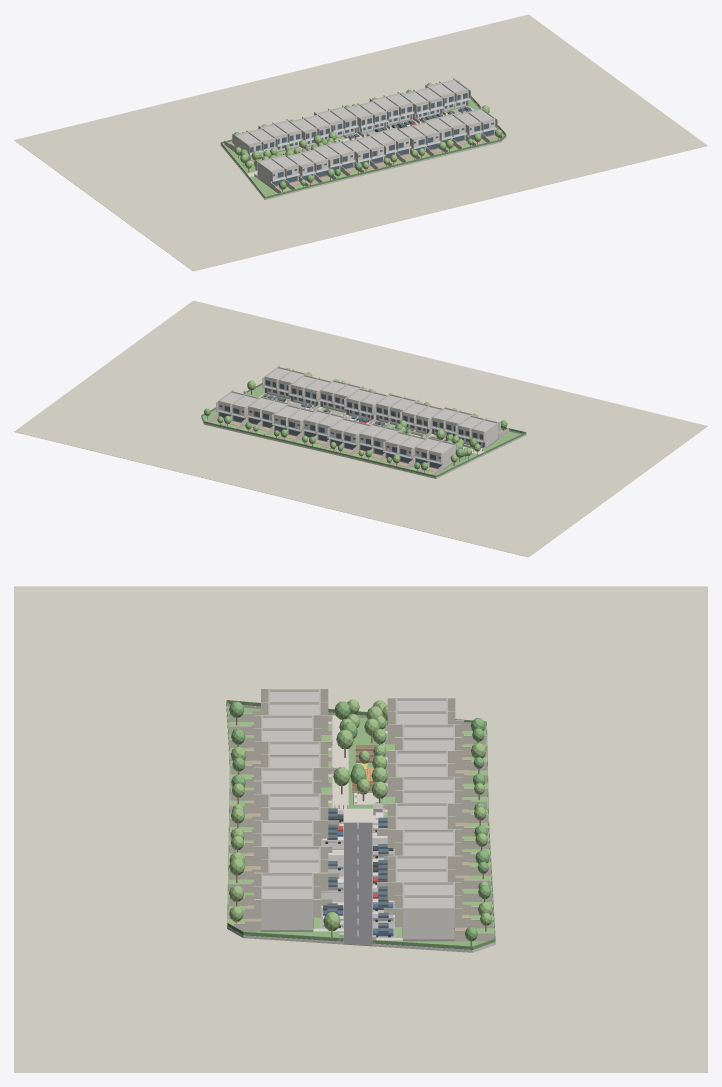
3 views of the same model, one above another, from view 1: azimuth 30°, elevation 25°; view 2: azimuth 150°, elevation 25°; view 3: azimuth 270°, elevation 25° (orthographic). The views are drawn at different scales.
Parts seen in each view (by area): view 1: zemin__zemin, villa__duvar, villa__cakil, villa__cam, villa__harpusta, agac__yaprak2, villa__perde, villa__duvar2, villa__korkuluk, peyzaj__cit, peyzaj__perde, peyzaj__bahce_duv (+4 smaller); view 2: zemin__zemin, villa__duvar, villa__cakil, villa__cam, villa__harpusta, villa__perde, villa__duvar2, villa__korkuluk, peyzaj__cit, agac__yaprak2, peyzaj__perde, peyzaj__bahce_duv (+4 smaller); view 3: zemin__zemin, villa__cakil, villa__perde, villa__duvar, peyzaj__perde, agac__yaprak2, villa__harpusta, yol__asfalt, peyzaj__cim, agac__yaprak, peyzaj__cit, peyzaj__ortak (+6 smaller).
Part boxes in pixels (x1,y1,x2,y2): zemin__zemin: (14,14,707,271); villa__duvar: (234,80,496,186); villa__cakil: (237,81,492,170); villa__cam: (249,93,494,185); villa__harpusta: (234,79,495,171); agac__yaprak2: (235,82,501,185); villa__perde: (232,78,497,181); villa__duvar2: (250,82,494,181); villa__korkuluk: (250,97,496,181); peyzaj__cit: (220,96,506,198); peyzaj__perde: (224,111,502,193); peyzaj__bahce_duv: (220,98,506,200); zemin__zemin: (14,300,707,557); villa__duvar: (216,367,498,468); villa__cakil: (220,368,495,453); villa__cam: (219,380,483,468); villa__harpusta: (218,366,498,453); villa__perde: (216,365,500,464); villa__duvar2: (218,373,483,466); villa__korkuluk: (216,384,482,463); peyzaj__cit: (201,383,526,477); agac__yaprak2: (217,368,480,463); peyzaj__perde: (207,399,509,475); peyzaj__bahce_duv: (201,385,526,478); zemin__zemin: (14,586,707,1072); villa__cakil: (262,692,453,907); villa__perde: (254,688,462,926); villa__duvar: (261,689,454,939); peyzaj__perde: (228,711,494,941); agac__yaprak2: (229,699,492,930); villa__harpusta: (261,689,454,908); yol__asfalt: (344,822,372,946); peyzaj__cim: (228,722,493,952); agac__yaprak: (229,701,490,940); peyzaj__cit: (226,700,495,949); peyzaj__ortak: (227,706,485,952).
Size of the model in its own units: 244 by 7.75 by 147.
